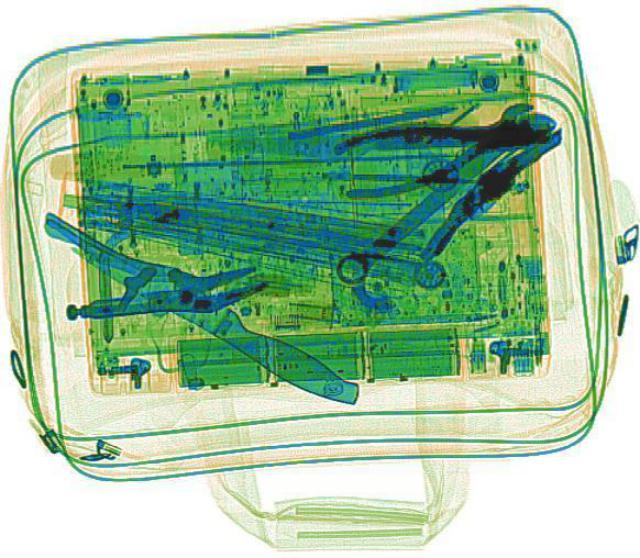Gun: (386, 126, 594, 263)
Knife: (60, 229, 366, 409)
Pliers: (326, 99, 544, 202)
Wrench: (321, 94, 557, 293)
